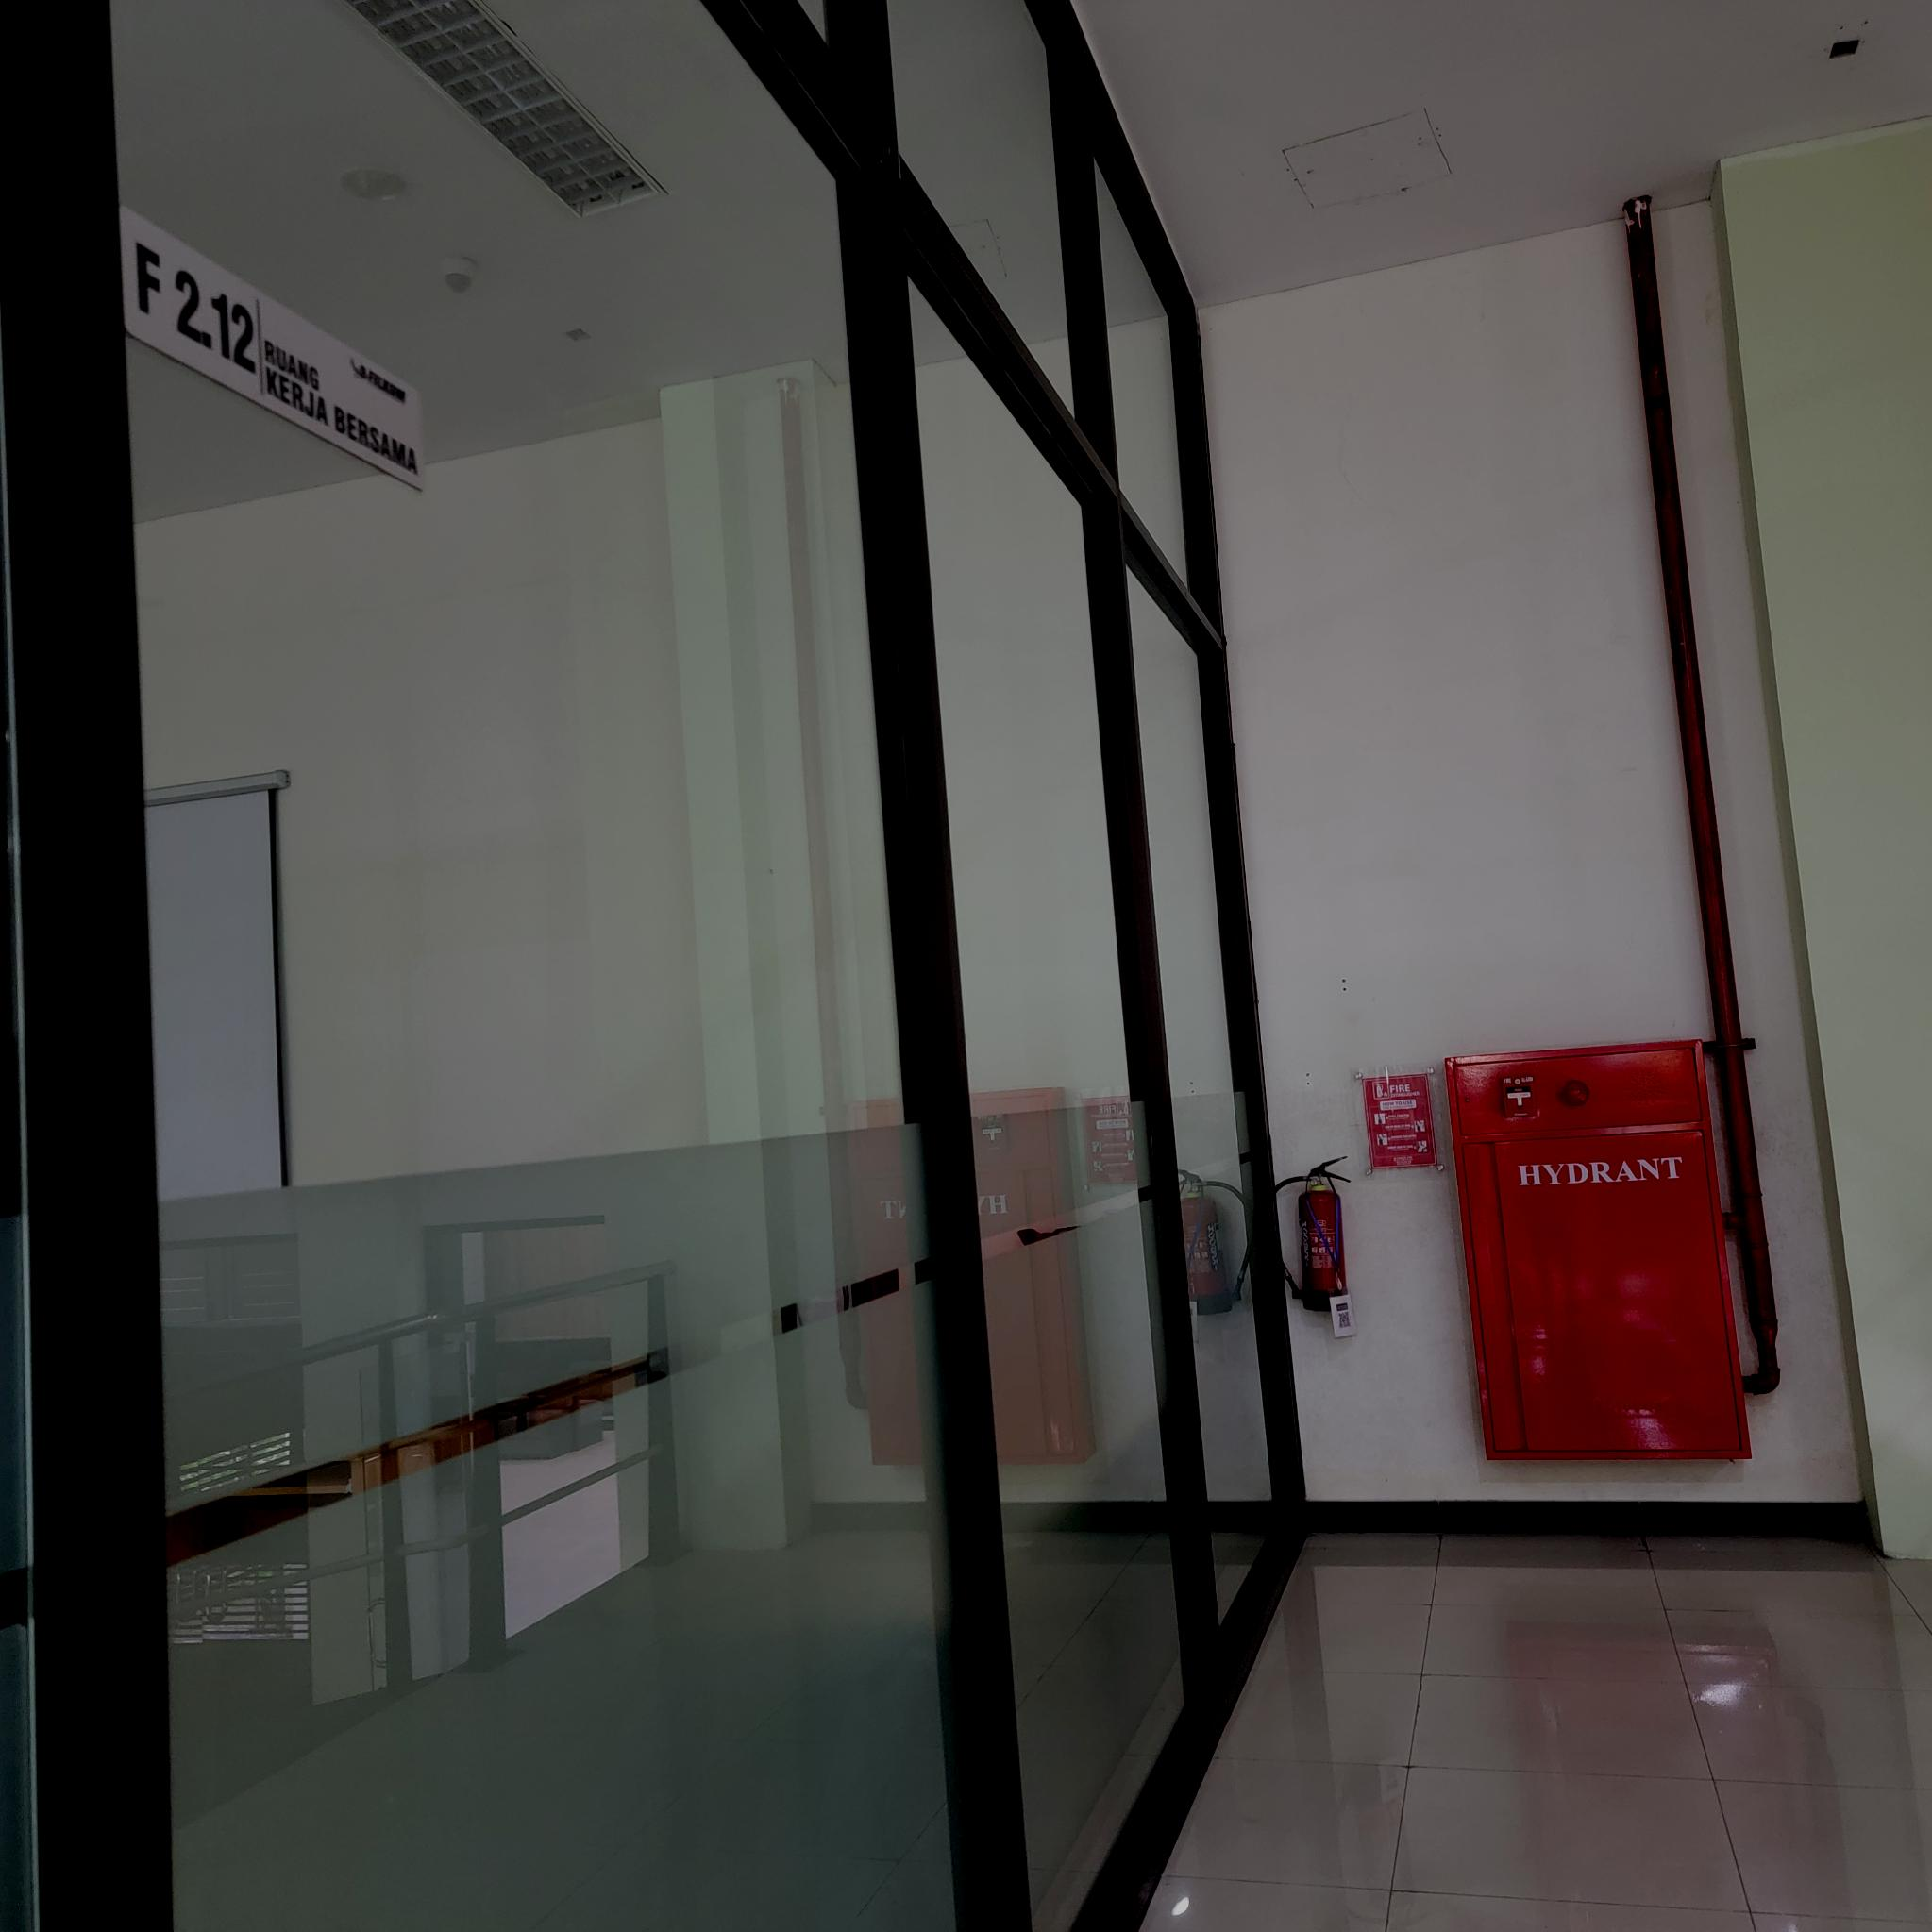plate: (120, 196, 428, 501)
